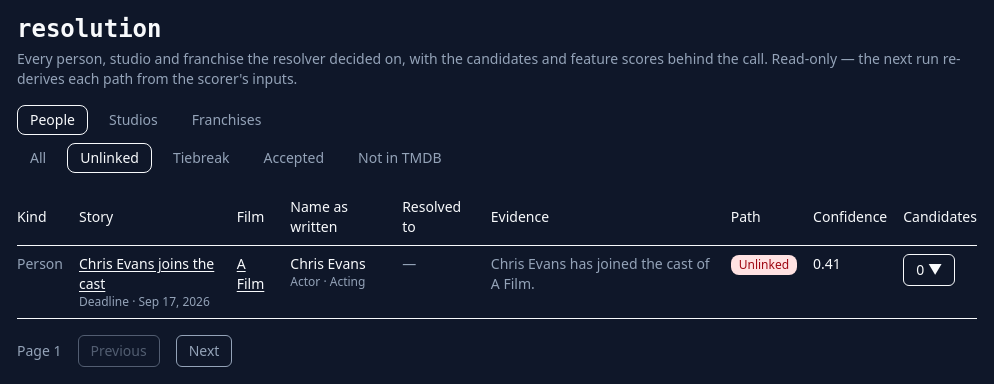
Test: AdminResolution › returns to the first page when the filter changes
Expected: the text "Chris Evans" is shown, [290,254,366,273]
Click the button "Next": [204, 351] box [176,335,232,367]
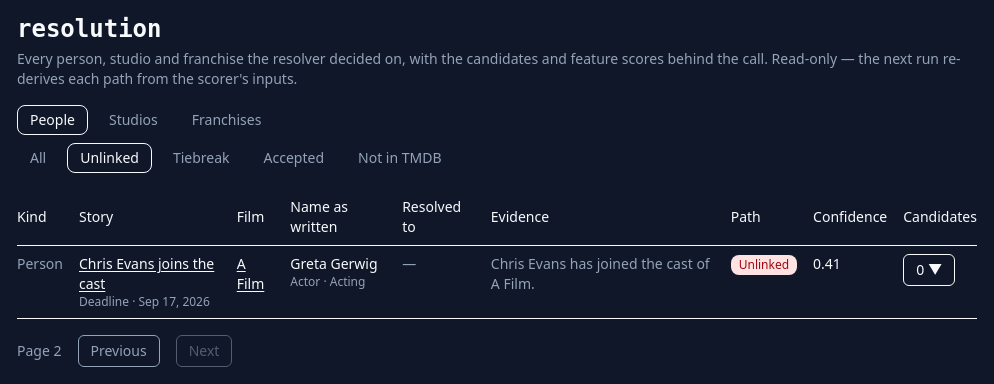
Result: the text "Page 2" is shown at [17,341,62,361]
Click the tab "All": [38, 158] box [17,143,59,173]
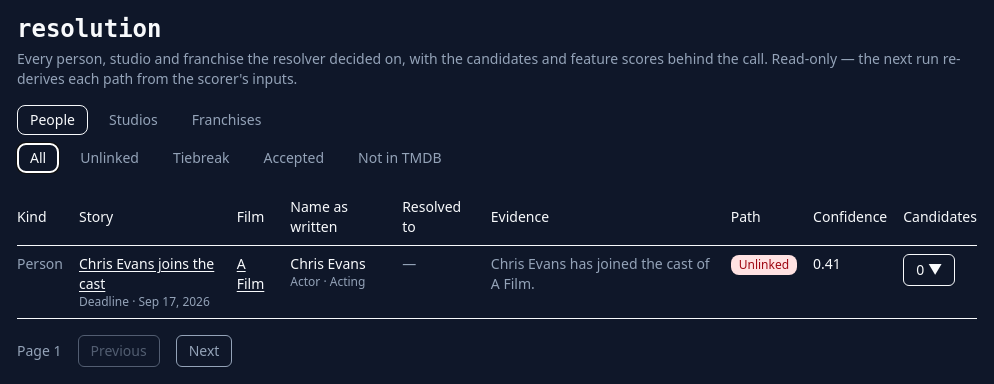
Result: the text "Page 1" is shown at [17,341,62,361]
Result: the text "Chris Evans" is shown at [290,254,366,273]
